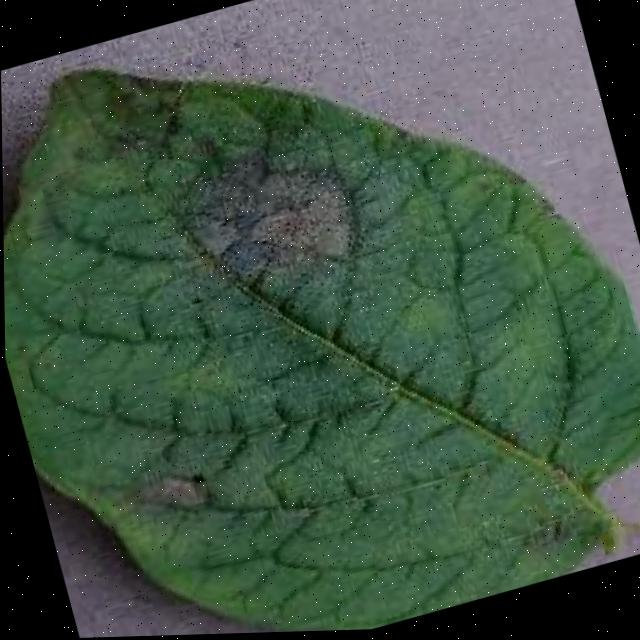Late_blight: (157, 110, 381, 330), (107, 400, 281, 542)
